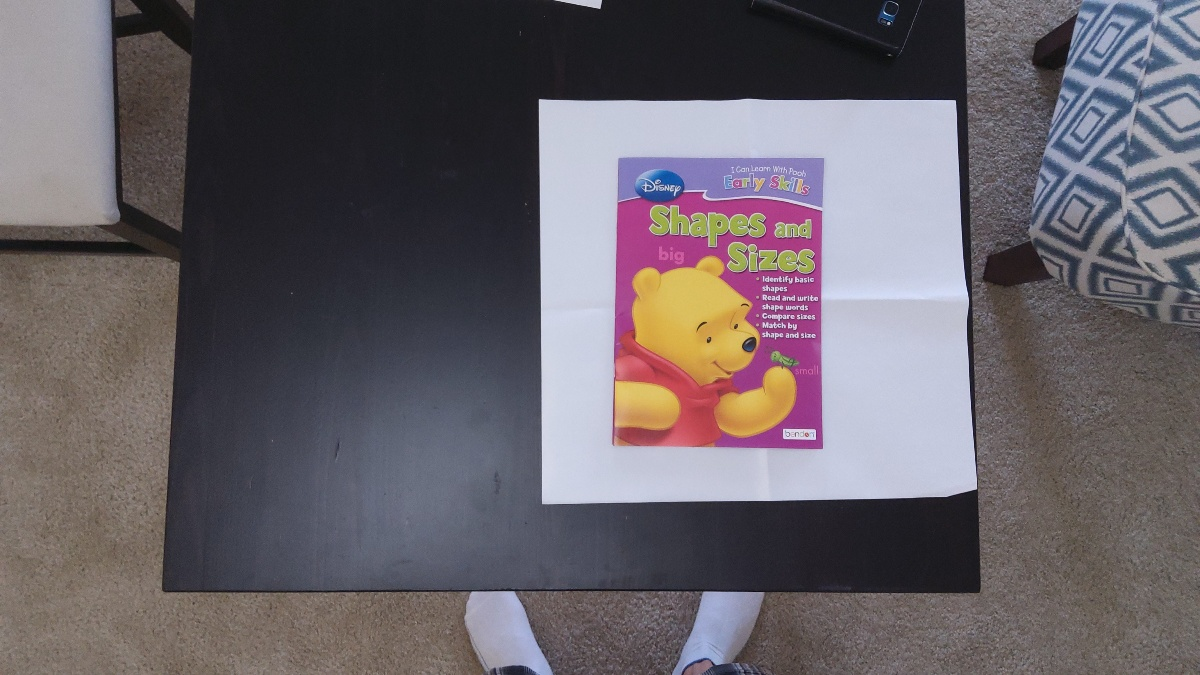book: (620, 160, 818, 452)
